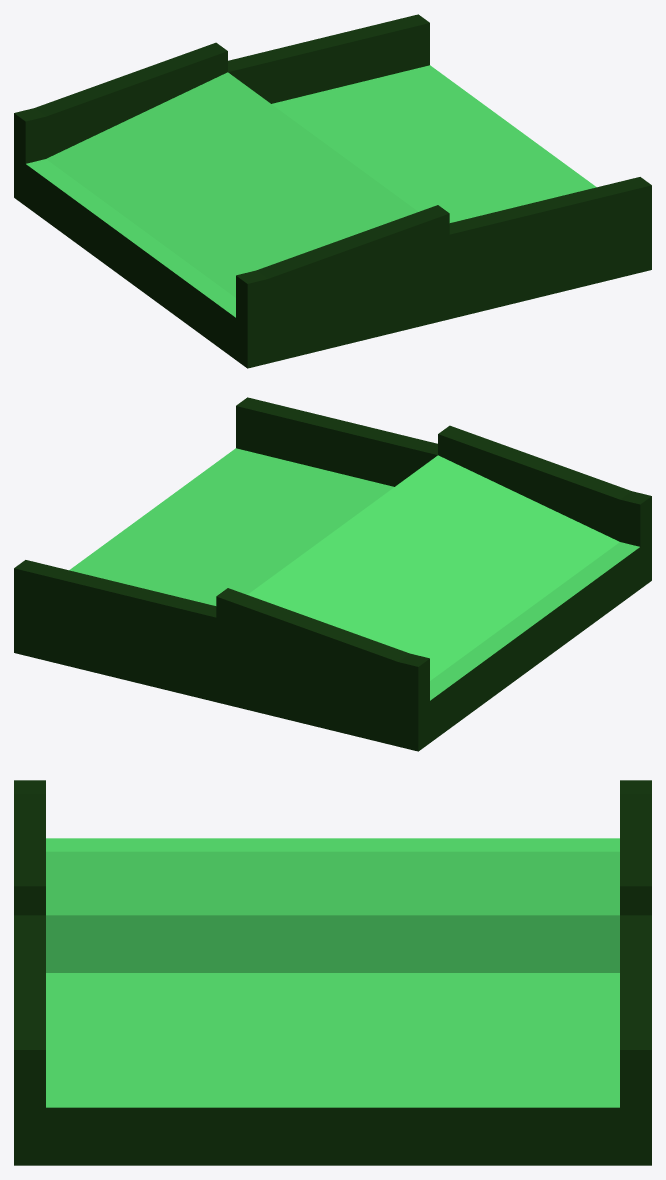
Rendered from MG Drop Off.fbx.
3 renders of one model, top to bottom at view 1: azimuth 30°, elevation 25°; view 2: azimuth 150°, elevation 25°; view 3: azimuth 270°, elevation 25°, orthographic. The views are drawn at different scales.
Parts seen in each view (by area): view 1: MG Drop Off; view 2: MG Drop Off; view 3: MG Drop Off.
Boxes of the visible parts, x1,y1,x2,y2 form: MG Drop Off: (14, 14, 651, 368); MG Drop Off: (14, 397, 651, 751); MG Drop Off: (14, 780, 651, 1165).
Size of the model in its own units: 200 by 50 by 200.
